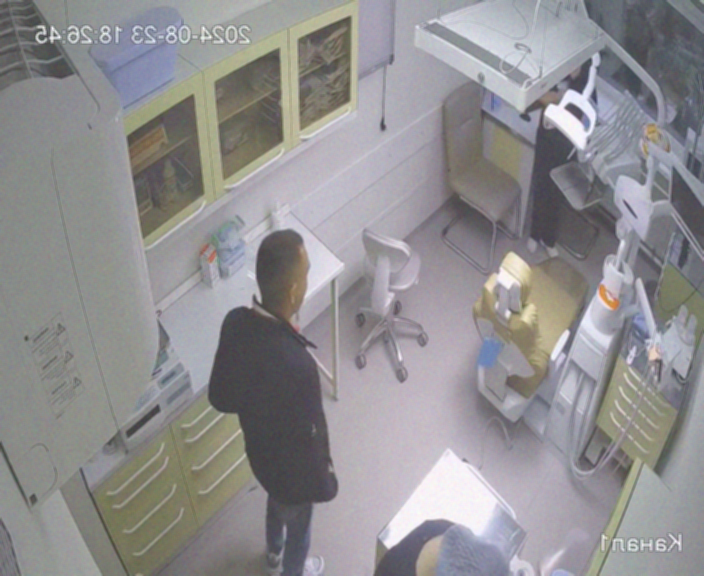Empty: (472, 252, 592, 421)
